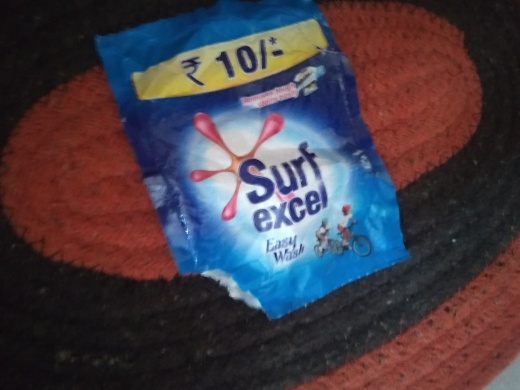surf: (95, 2, 416, 320)
